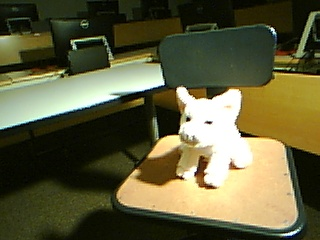piggy: (172, 84, 252, 188)
